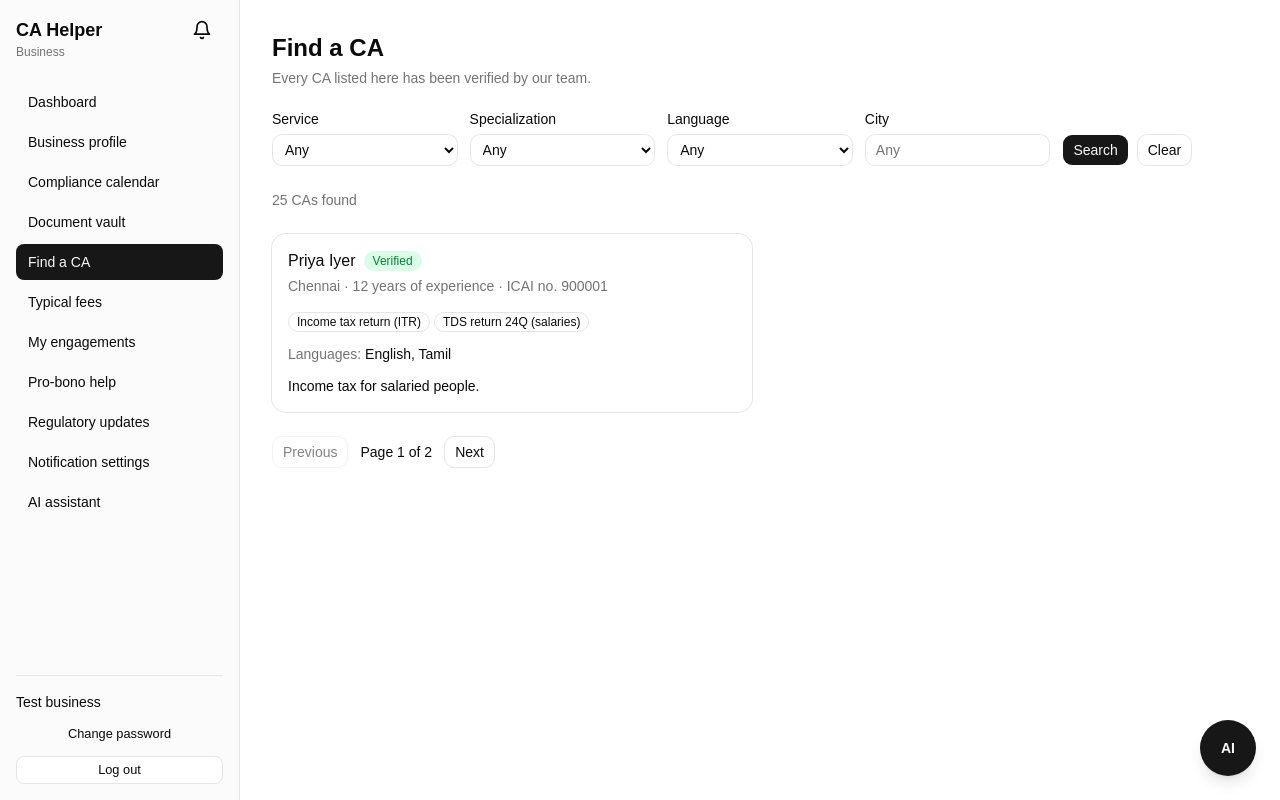
Test: Find a CA page › pages through the results
The width and height of the screenshot is (1280, 800).
Step 1. Click the button "Next" → (470, 452), box x1=444 y1=436 x2=495 y2=468
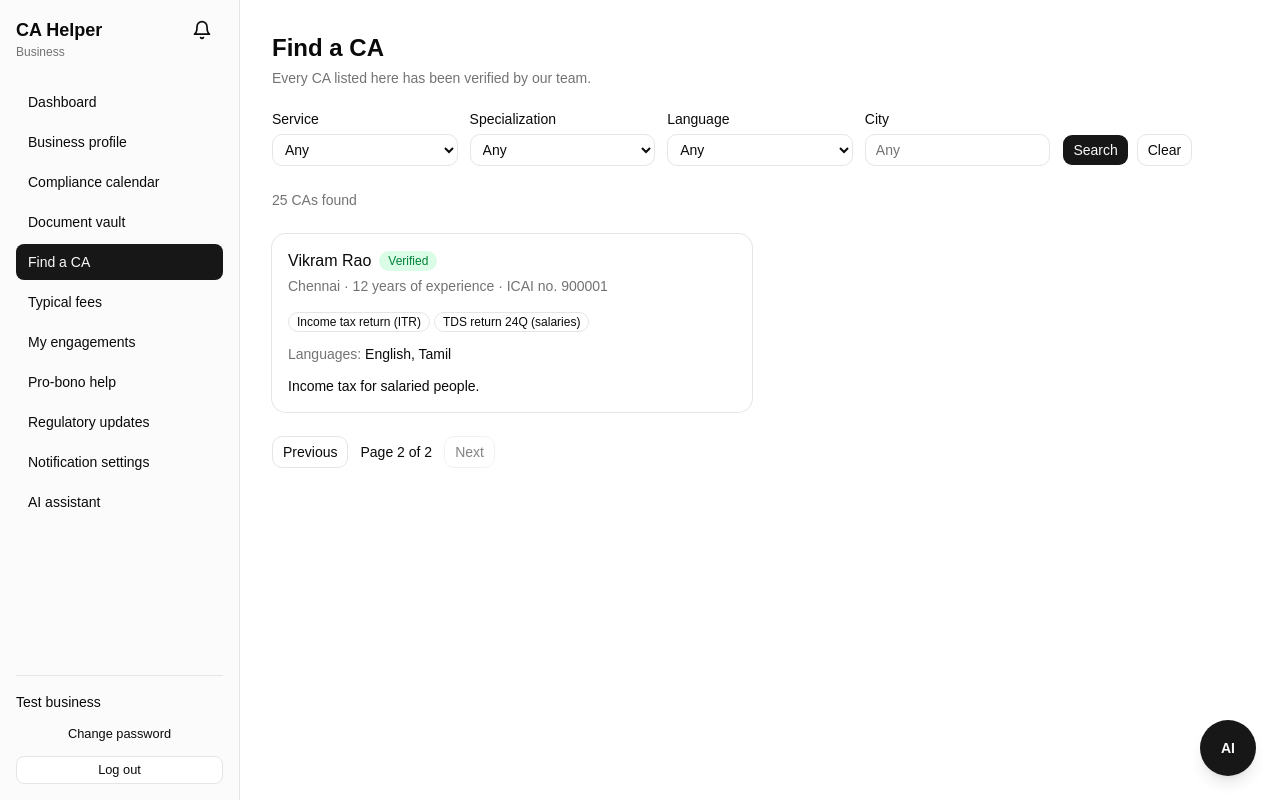
Now the heading "Vikram Rao" is shown, box x1=288 y1=250 x2=371 y2=272
Now the text "Page 2 of 2" is shown, box x1=360 y1=442 x2=432 y2=462
